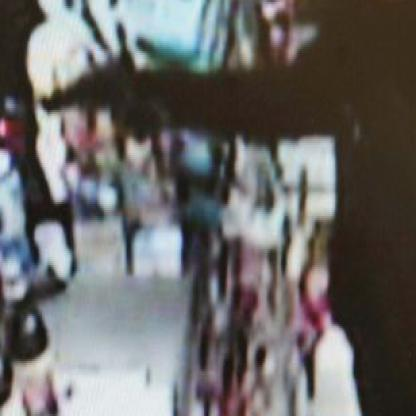gun: (26, 35, 158, 159)
